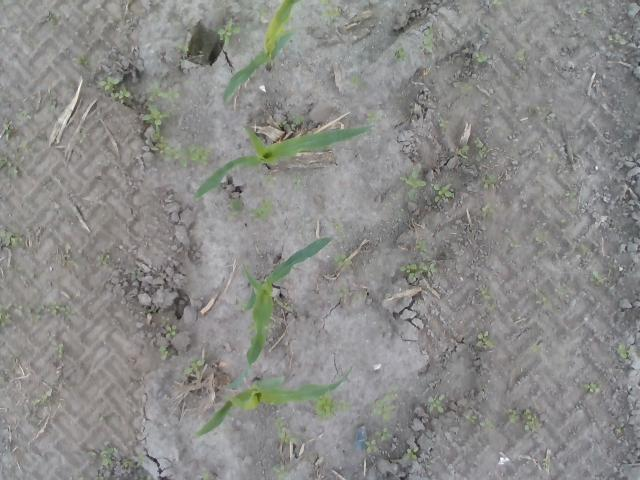Maize: (190, 367, 352, 440), (194, 126, 368, 192), (244, 237, 332, 364), (222, 0, 304, 106)
Weeds: (147, 126, 210, 168), (206, 15, 256, 42), (314, 390, 352, 422), (372, 382, 400, 422), (94, 76, 131, 104), (142, 78, 184, 102), (505, 407, 543, 432), (398, 166, 426, 199), (272, 416, 304, 444), (534, 288, 567, 314), (400, 262, 439, 283), (142, 102, 171, 126), (246, 197, 272, 223), (14, 303, 46, 322), (49, 301, 80, 320), (426, 393, 448, 416), (0, 151, 19, 177), (416, 25, 433, 53), (183, 358, 206, 376), (434, 182, 454, 202), (319, 0, 342, 17), (471, 133, 486, 158), (230, 192, 246, 215), (475, 330, 495, 348), (0, 230, 18, 249), (272, 463, 292, 480), (100, 446, 117, 466), (617, 340, 634, 360), (50, 337, 65, 359), (350, 71, 368, 89), (174, 30, 188, 52), (471, 48, 490, 64), (574, 2, 594, 17), (375, 426, 393, 442), (0, 304, 12, 328), (480, 200, 496, 218), (482, 173, 498, 191), (160, 345, 177, 361), (335, 254, 353, 269), (513, 48, 529, 64), (164, 319, 177, 338), (590, 271, 604, 288), (478, 417, 496, 430), (393, 47, 408, 62), (528, 338, 544, 352), (334, 286, 352, 298), (582, 382, 600, 394), (576, 241, 590, 256), (255, 4, 271, 17), (95, 254, 112, 266), (46, 92, 56, 112), (456, 144, 470, 158), (292, 175, 302, 194), (112, 15, 131, 25), (364, 439, 378, 452), (402, 448, 417, 460), (544, 151, 560, 162), (15, 112, 32, 122), (415, 239, 428, 252), (292, 113, 306, 125), (532, 104, 546, 116), (260, 173, 273, 185), (534, 230, 548, 241), (462, 82, 477, 92), (479, 289, 491, 301), (608, 35, 624, 44), (76, 55, 89, 66), (509, 238, 522, 248), (46, 13, 56, 26), (4, 127, 12, 143), (466, 414, 478, 424), (366, 111, 376, 123), (136, 452, 144, 466), (18, 144, 32, 152), (564, 192, 578, 200), (121, 458, 132, 468), (334, 223, 345, 233), (282, 299, 294, 308), (615, 422, 625, 432), (394, 208, 401, 222), (94, 473, 106, 480), (438, 118, 448, 126), (200, 471, 208, 480), (134, 475, 146, 480), (32, 400, 42, 406), (240, 303, 247, 311), (544, 458, 550, 466)
